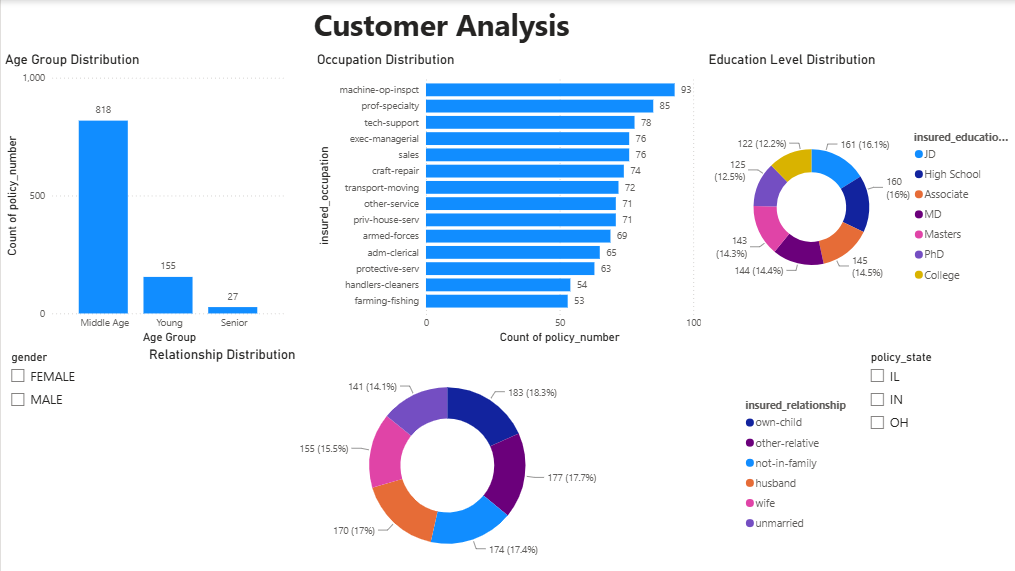

Layout of this report page (visuals, bound fields, positions):
{"tool":"powerbi","page":{"name":"Customer Analysis","canvas":[1280,720],"ordinal":1},"visuals":[{"type":"clusteredColumnChart","title":"Age Group Distribution","fields":{"Category":["Auto Claims.Age Group"],"Y":["CountNonNull(Auto Claims.policy_number)"]},"box":[0,64.2,363.6,373.3],"z":0},{"type":"clusteredBarChart","title":"Occupation Distribution","fields":{"Category":["Auto Claims.insured_occupation"],"Y":["CountNonNull(Auto Claims.policy_number)"]},"box":[392.8,64.2,493.9,373.3],"z":1000},{"type":"donutChart","title":"Education Level Distribution","fields":{"Category":["Auto Claims.insured_education_level"],"Y":["CountNonNull(Auto Claims.policy_number)"]},"box":[886.6,64.2,392.8,373.3],"z":2000},{"type":"donutChart","title":"Relationship Distribution","fields":{"Category":["Auto Claims.insured_relationship"],"Y":["CountNonNull(Auto Claims.policy_number)"]},"box":[180.8,437.5,902.2,280],"z":3000},{"type":"slicer","fields":{"Values":["Auto Claims.gender"]},"box":[0,437.5,180.8,281.9],"z":4000},{"type":"slicer","fields":{"Values":["Auto Claims.policy_state"]},"box":[1083,437.5,196.4,280],"z":5000},{"type":"textbox","box":[342.2,0,425.8,64.2],"z":6000}]}

Visuals, with their boxes in screenshot pixels (x1, y1, x2, y2), scaled from the page's 1280x720 canvas onto the 1015x571 screenshot:
"Age Group Distribution" clusteredColumnChart: detection(0, 51, 288, 347)
"Occupation Distribution" clusteredBarChart: detection(311, 51, 703, 347)
"Education Level Distribution" donutChart: detection(703, 51, 1014, 347)
"Relationship Distribution" donutChart: detection(143, 347, 859, 569)
slicer - Auto Claims.gender: detection(0, 347, 143, 570)
slicer - Auto Claims.policy_state: detection(859, 347, 1014, 569)
textbox: detection(271, 0, 609, 51)
